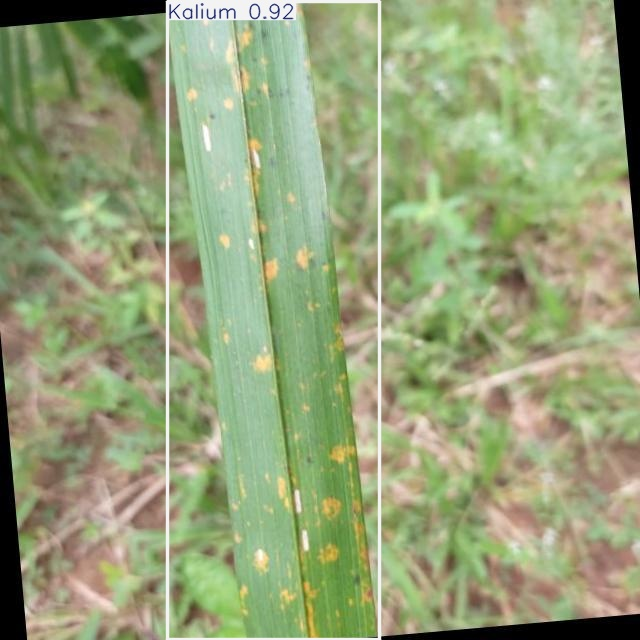Kalium: (167, 2, 379, 640)
